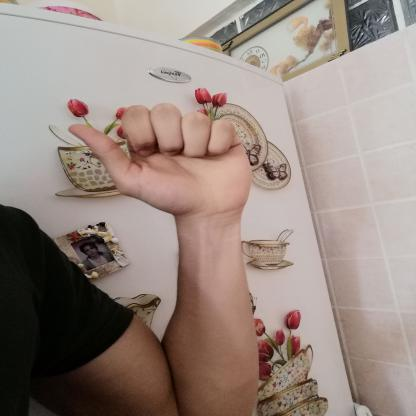DAD: (57, 96, 266, 227)
